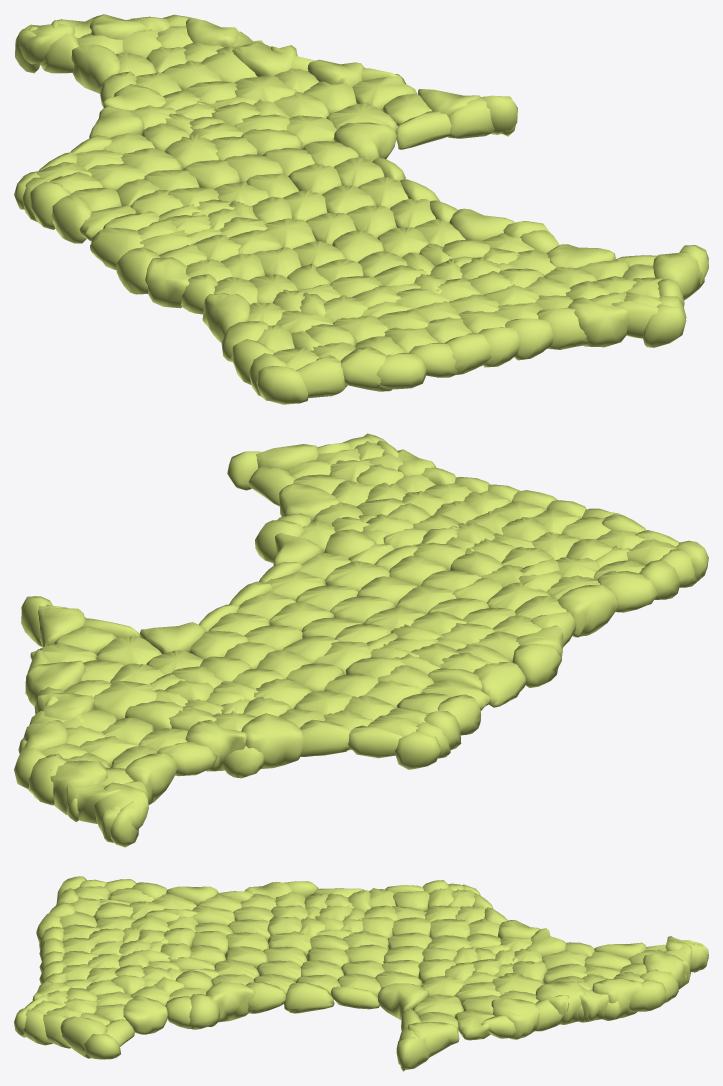
File: Islands2.004_fog.fbx
3 views of the same model, one above another, from view 1: azimuth 30°, elevation 25°; view 2: azimuth 150°, elevation 25°; view 3: azimuth 270°, elevation 25° (orthographic). The views are drawn at different scales.
Visible parts, largest first — view 1: Island2.004_fog_cell.041, Island2.004_fog_cell.089, Island2.004_fog_cell.135, Island2.004_fog_cell.011, Island2.004_fog_cell.038, Island2.004_fog_cell.139, Island2.004_fog_cell.034, Island2.004_fog_cell.183, Island2.004_fog_cell.074, Island2.004_fog_cell.056, Island2.004_fog_cell.190, Island2.004_fog_cell.090 (+122 smaller); view 2: Island2.004_fog_cell.111, Island2.004_fog_cell.139, Island2.004_fog_cell.179, Island2.004_fog_cell.110, Island2.004_fog_cell.060, Island2.004_fog_cell.082, Island2.004_fog_cell.124, Island2.004_fog_cell.051, Island2.004_fog_cell.032, Island2.004_fog_cell.011, Island2.004_fog_cell.162, Island2.004_fog_cell.200 (+103 smaller); view 3: Island2.004_fog_cell.024, Island2.004_fog_cell.144, Island2.004_fog_cell.056, Island2.004_fog_cell.032, Island2.004_fog_cell.036, Island2.004_fog_cell.089, Island2.004_fog_cell.109, Island2.004_fog_cell.074, Island2.004_fog_cell.068, Island2.004_fog_cell.083, Island2.004_fog_cell.105, Island2.004_fog_cell.181 (+122 smaller).
Part boxes in pixels (bbox=[...]): Island2.004_fog_cell.041: bbox=[568, 297, 628, 347]; Island2.004_fog_cell.089: bbox=[333, 122, 396, 162]; Island2.004_fog_cell.135: bbox=[145, 257, 190, 308]; Island2.004_fog_cell.011: bbox=[71, 44, 120, 93]; Island2.004_fog_cell.038: bbox=[256, 366, 308, 404]; Island2.004_fog_cell.139: bbox=[202, 293, 250, 342]; Island2.004_fog_cell.034: bbox=[340, 346, 392, 391]; Island2.004_fog_cell.183: bbox=[395, 111, 451, 149]; Island2.004_fog_cell.074: bbox=[653, 252, 704, 300]; Island2.004_fog_cell.056: bbox=[232, 41, 297, 76]; Island2.004_fog_cell.190: bbox=[296, 355, 347, 398]; Island2.004_fog_cell.090: bbox=[376, 353, 426, 389]; Island2.004_fog_cell.111: bbox=[241, 713, 303, 768]; Island2.004_fog_cell.139: bbox=[557, 585, 618, 637]; Island2.004_fog_cell.179: bbox=[94, 782, 148, 842]; Island2.004_fog_cell.110: bbox=[473, 662, 526, 707]; Island2.004_fog_cell.060: bbox=[597, 571, 658, 612]; Island2.004_fog_cell.082: bbox=[185, 720, 247, 771]; Island2.004_fog_cell.124: bbox=[512, 644, 560, 687]; Island2.004_fog_cell.051: bbox=[50, 760, 107, 814]; Island2.004_fog_cell.032: bbox=[25, 660, 85, 706]; Island2.004_fog_cell.011: bbox=[125, 752, 177, 804]; Island2.004_fog_cell.162: bbox=[299, 719, 350, 756]; Island2.004_fog_cell.200: bbox=[93, 680, 156, 719]; Island2.004_fog_cell.024: bbox=[123, 995, 167, 1034]; Island2.004_fog_cell.144: bbox=[206, 982, 255, 1022]; Island2.004_fog_cell.056: bbox=[535, 981, 584, 1024]; Island2.004_fog_cell.032: bbox=[491, 998, 539, 1039]; Island2.004_fog_cell.036: bbox=[284, 982, 334, 1013]; Island2.004_fog_cell.089: bbox=[377, 983, 429, 1020]; Island2.004_fog_cell.109: bbox=[407, 1022, 459, 1057]; Island2.004_fog_cell.074: bbox=[60, 1016, 107, 1058]; Island2.004_fog_cell.068: bbox=[592, 978, 643, 1018]; Island2.004_fog_cell.083: bbox=[246, 981, 285, 1013]; Island2.004_fog_cell.105: bbox=[188, 994, 219, 1029]; Island2.004_fog_cell.181: bbox=[629, 980, 665, 1011].
Size of the model in its own units: 121 by 12.21 by 203.
